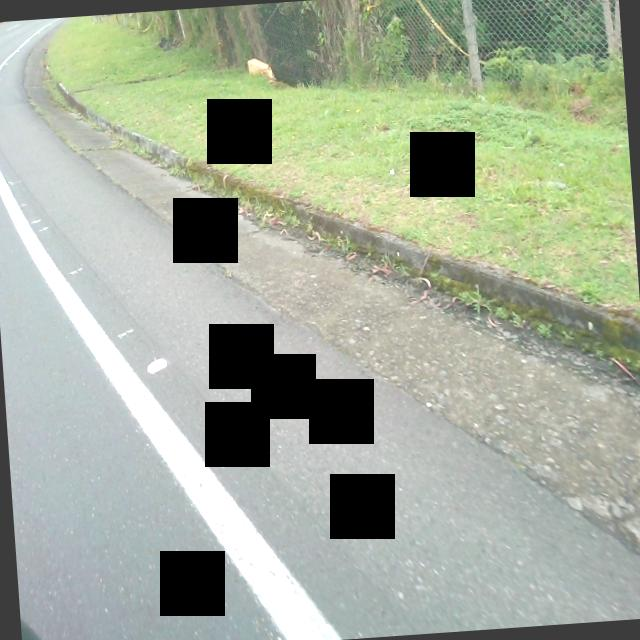DITCH: (16, 0, 640, 611), (0, 98, 640, 640), (36, 133, 640, 640)
